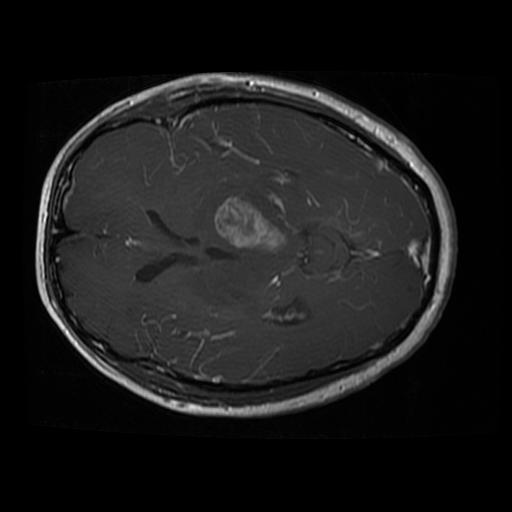glioma: (212, 188, 293, 257)
